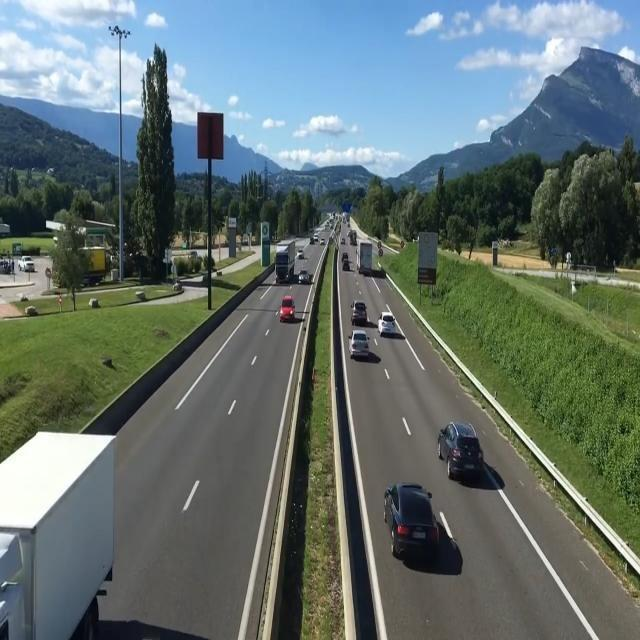Car: (382, 481, 440, 558), (437, 421, 483, 480), (348, 330, 370, 358), (278, 294, 296, 322), (349, 300, 368, 326), (377, 311, 396, 335), (298, 270, 310, 283), (342, 258, 350, 272), (297, 249, 305, 260), (342, 252, 348, 260), (320, 239, 326, 245)
Truck: (0, 430, 115, 640), (274, 239, 296, 284), (354, 238, 374, 275), (348, 230, 358, 244)
